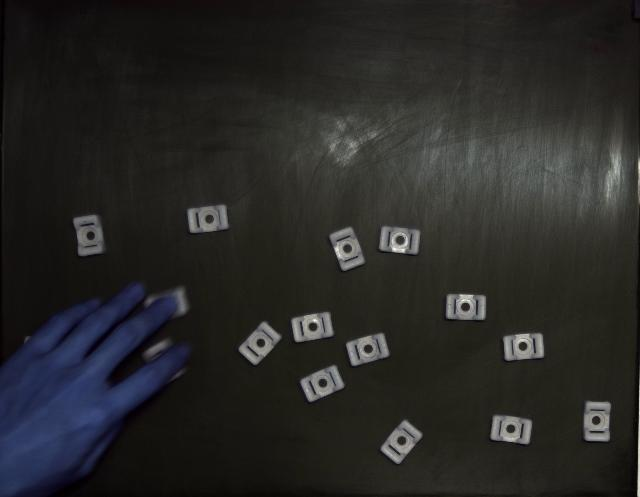first_side: (380, 420, 422, 465), (239, 322, 281, 365), (300, 365, 345, 402), (329, 228, 365, 271), (72, 215, 105, 258), (346, 334, 390, 366), (291, 312, 334, 342), (490, 415, 532, 445), (188, 205, 229, 234), (379, 226, 420, 255), (502, 334, 544, 361), (446, 295, 486, 321)
